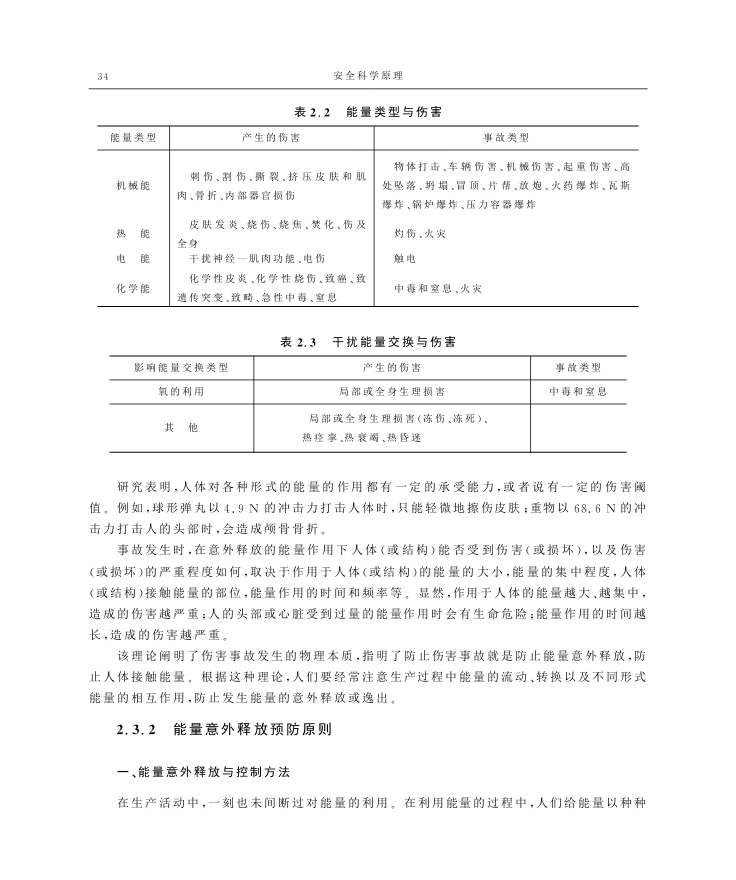table: (97, 125, 640, 307), (109, 355, 627, 453)
